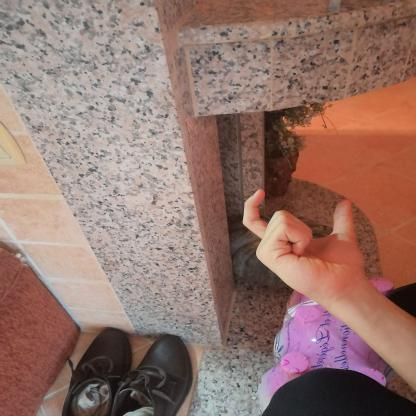NOON: (222, 176, 386, 315)
